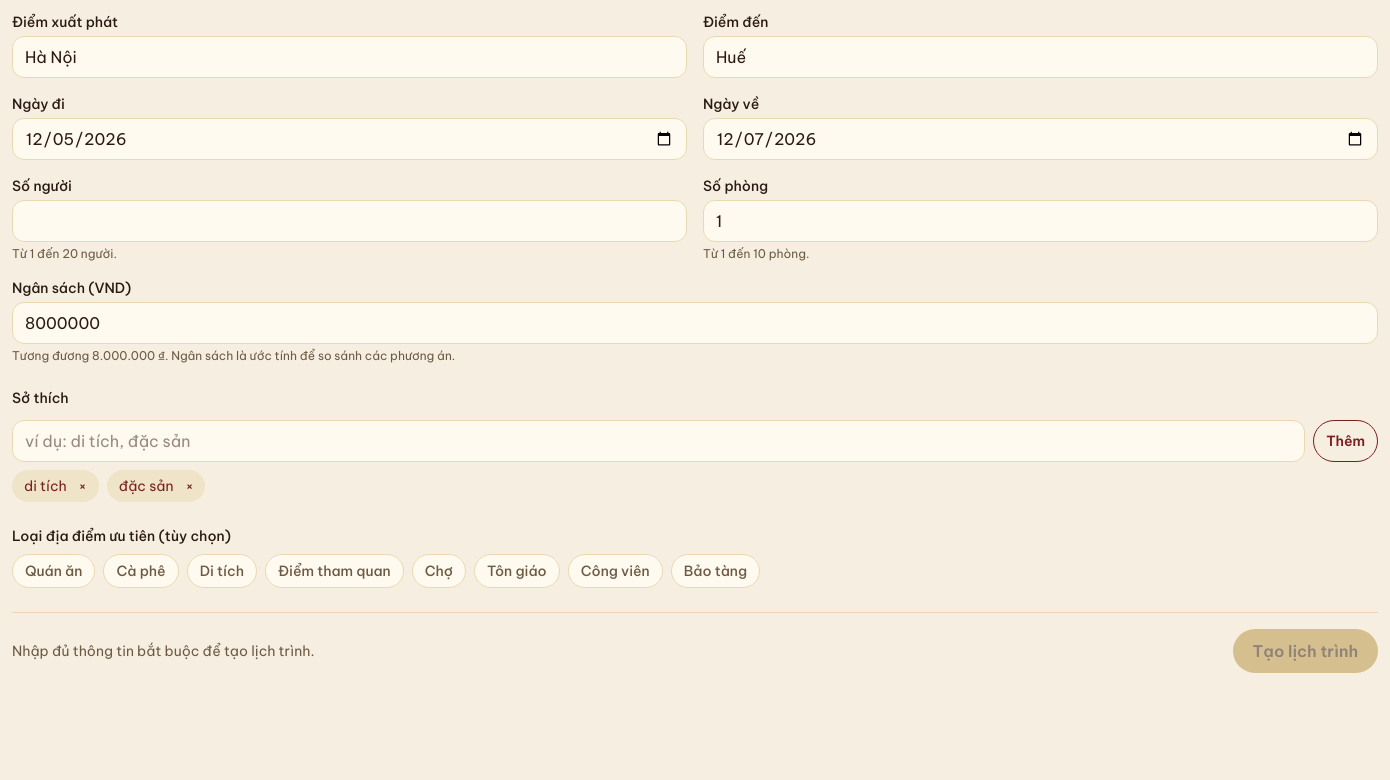
Test case: TripRequestForm › shows an error for a touched field and blocks submit until it is valid
Click the number field labelled "Số người" at {"x": 350, "y": 221}, box [12, 200, 687, 242]
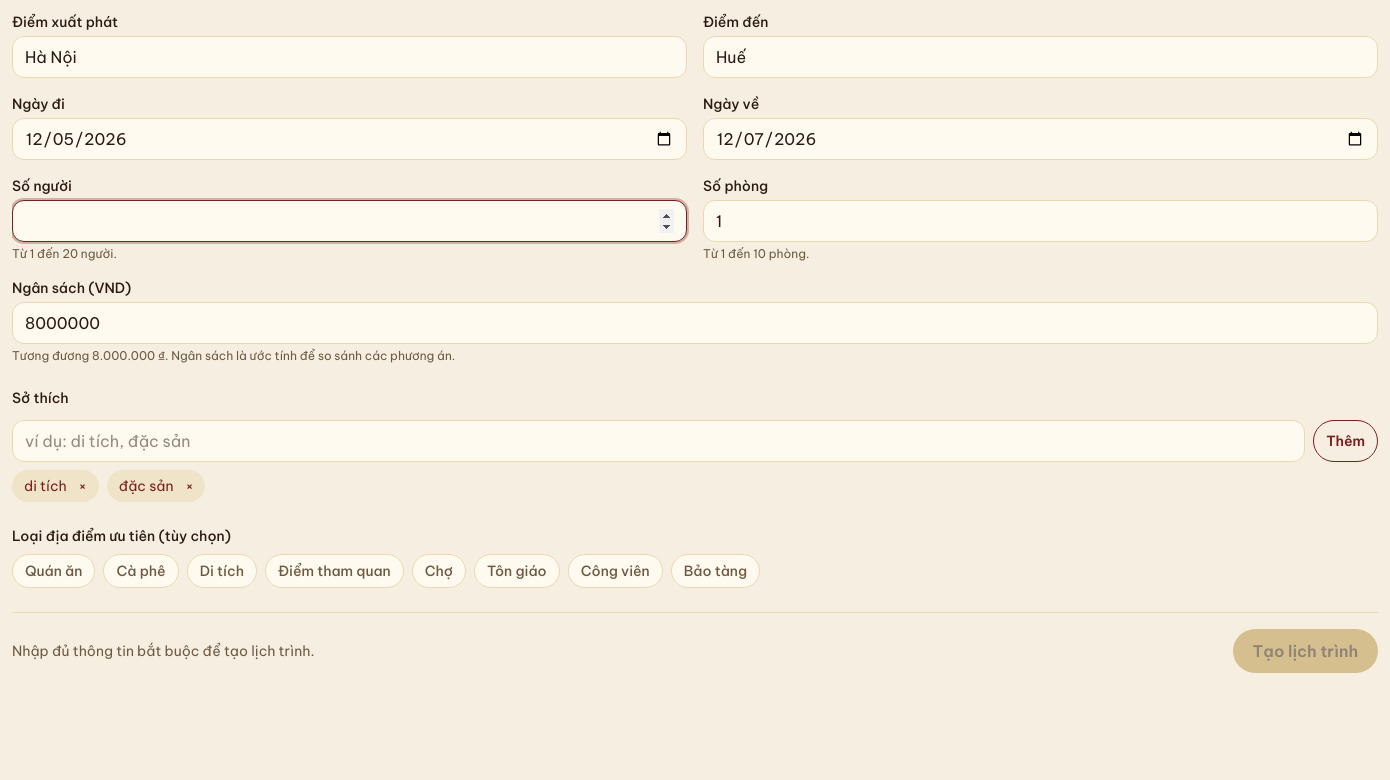
Press Tab
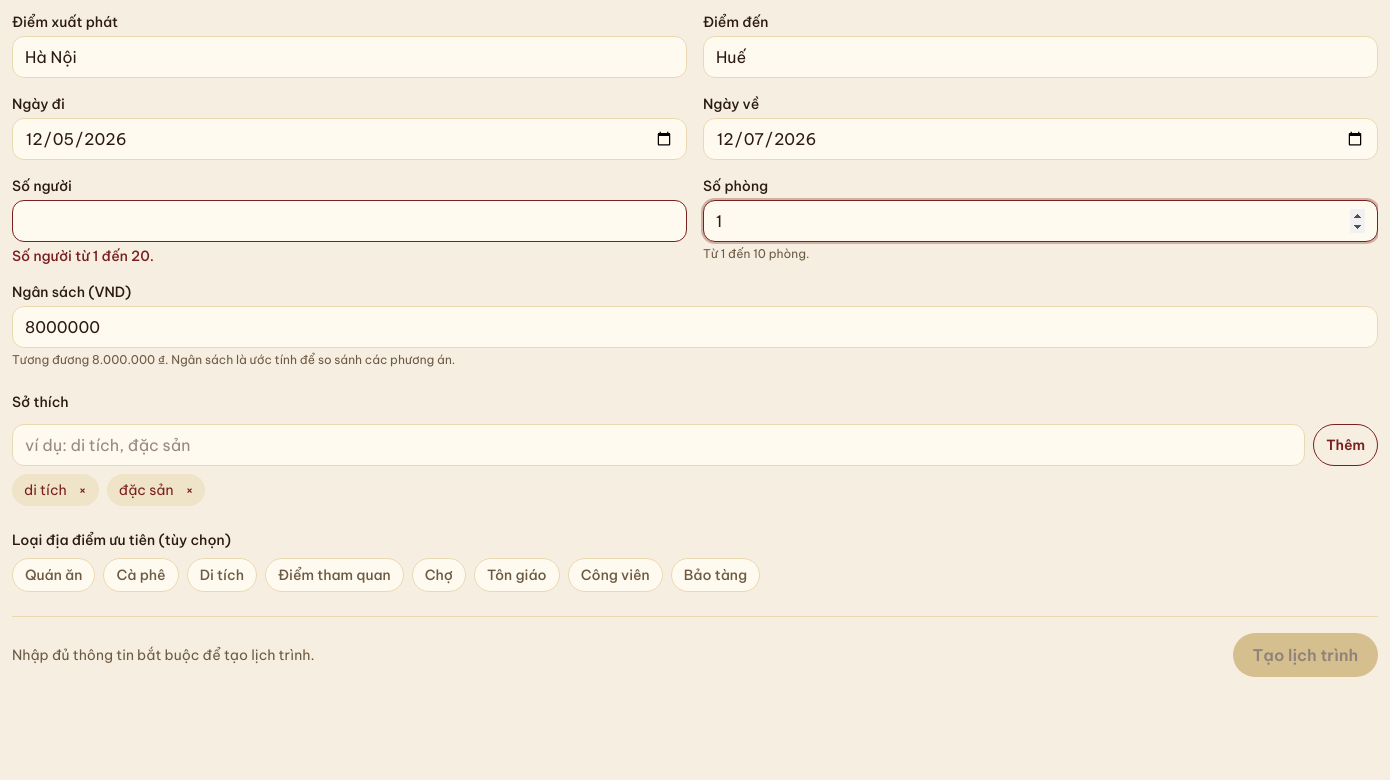
expect the button "Tạo lịch trình" is disabled: met, box [1232, 633, 1378, 677]
expect the text "Số người từ 1 đến 20." is shown: met, box [12, 247, 154, 265]
Type "3" into the number field labelled "Số người" at {"x": 350, "y": 221}, box [12, 200, 687, 242]
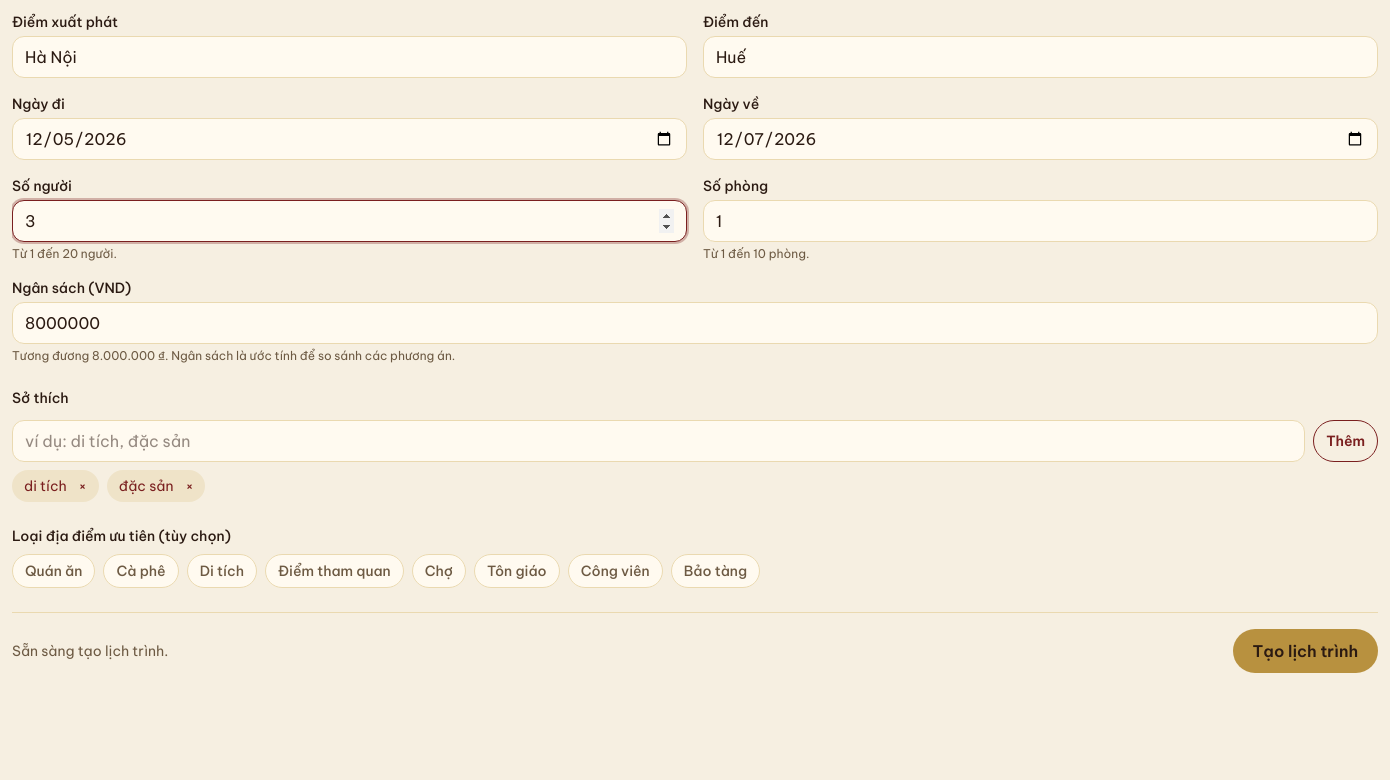
expect the text "Số người từ 1 đến 20." is not shown: met
expect the button "Tạo lịch trình" is enabled: met, box [1232, 629, 1378, 673]
